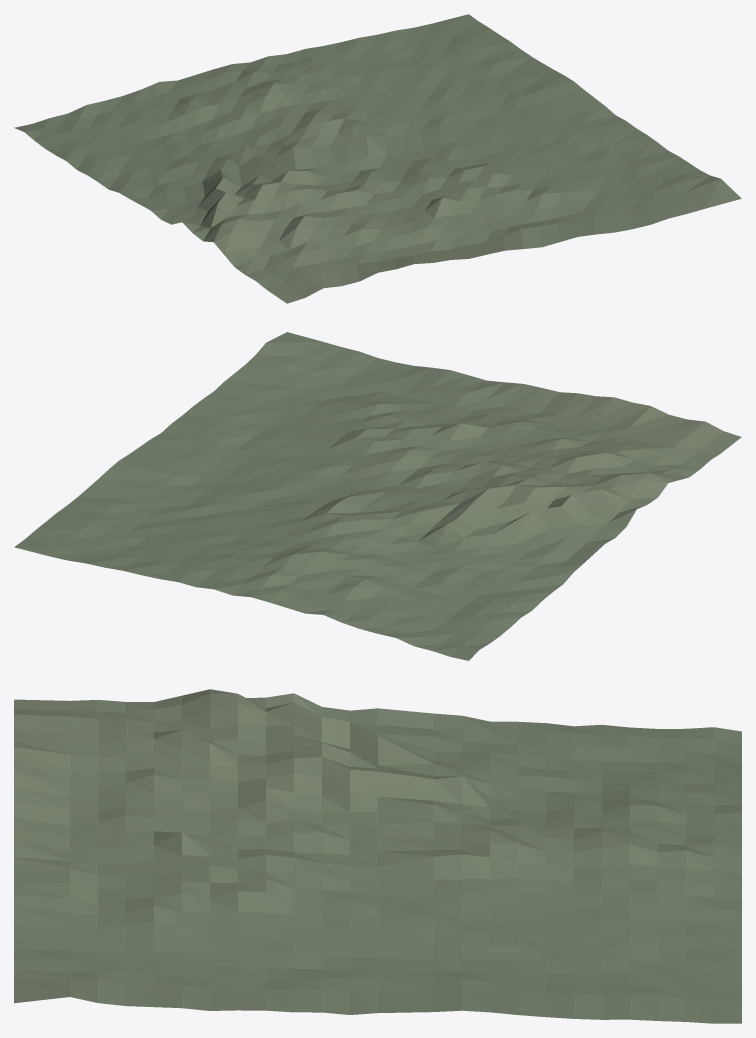
The model's file is tile_2_0.glb.
The picture shows the model from 3 angles, top to bottom: view 1: azimuth 30°, elevation 25°; view 2: azimuth 150°, elevation 25°; view 3: azimuth 270°, elevation 25°; orthographic projection. The views are drawn at different scales.
Parts seen in each view (by area): view 1: geometry_0; view 2: geometry_0; view 3: geometry_0.
Part boxes in pixels (x1,y1,x2,y2): geometry_0: [14, 14, 741, 303]; geometry_0: [14, 332, 741, 660]; geometry_0: [14, 689, 741, 1023].
Size of the model in its own units: 123 by 10.33 by 127.
